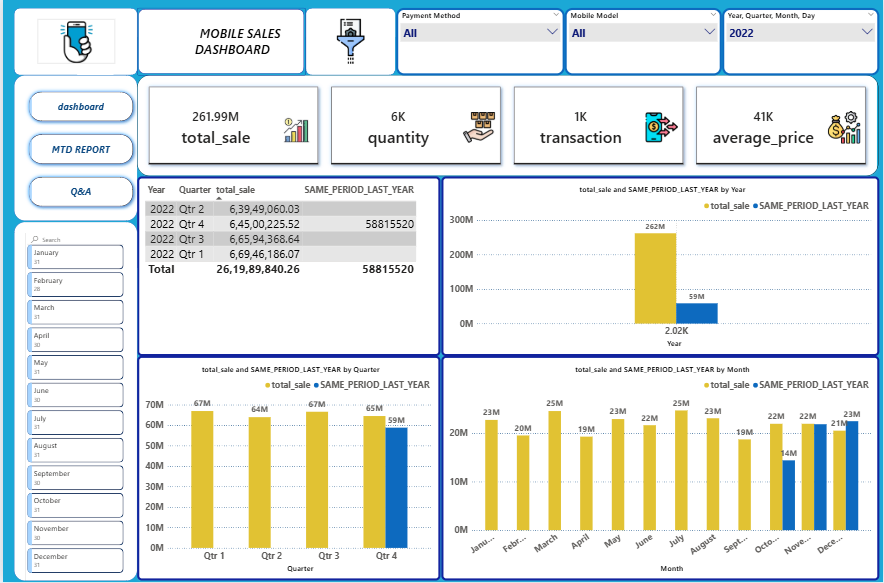

The dashboard page shown, as its layout file describes it:
{"tool":"powerbi","page":{"name":"SAMEPERIOD LAST YEAR","canvas":[1882,1250],"ordinal":2},"visuals":[{"type":"shape","box":[24,24,264,144],"z":0},{"type":"image","box":[72,48,168,96],"z":1000},{"type":"shape","box":[24,168,264,312],"z":2000},{"type":"cardVisual","fields":{"Data":["mobile_sales.total_sale","mobile_sales.quantity","mobile_sales.transaction","mobile_sales.average_price"]},"box":[288,168,1584,216],"z":3000},{"type":"slicer","fields":{"Values":["mobile_sales.Mobile Model"]},"box":[1200,24,336,144],"z":4000},{"type":"slicer","fields":{"Values":["calendar.date.Variation.Date Hierarchy.Year","calendar.date.Variation.Date Hierarchy.Quarter","calendar.date.Variation.Date Hierarchy.Month","calendar.date.Variation.Date Hierarchy.Day"]},"box":[1536,24,336,144],"z":5000},{"type":"slicer","fields":{"Values":["mobile_sales.Payment Method"]},"box":[840,24,360,144],"z":6000},{"type":"shape","box":[648,24,192,144],"z":7000},{"type":"image","box":[648,48,192,96],"z":8000},{"type":"shape","box":[288,24,360,144],"z":9000},{"type":"textbox","box":[384,48,240,96],"z":10000},{"type":"tableEx","fields":{"Values":["calendar.date.Variation.Date Hierarchy.Year","calendar.date.Variation.Date Hierarchy.Quarter","mobile_sales.total_sale","mobile_sales.SAME_PERIOD_LAST_YEAR"]},"box":[288,384,648,384],"z":11000},{"type":"shape","box":[24,480,264,768],"z":12000},{"type":"advancedSlicerVisual","fields":{"Values":["calendar.date.Variation.Date Hierarchy.Month"],"Label":["CountNonNull(calendar.date.Variation.Date Hierarchy.Day)"]},"box":[48,504,216,744],"z":13000},{"type":"clusteredColumnChart","fields":{"Category":["calendar.date.Variation.Date Hierarchy.Year"],"Y":["mobile_sales.total_sale","mobile_sales.SAME_PERIOD_LAST_YEAR"]},"box":[936,384,936,384],"z":14000},{"type":"clusteredColumnChart","fields":{"Y":["mobile_sales.total_sale","mobile_sales.SAME_PERIOD_LAST_YEAR"],"Category":["calendar.date.Variation.Date Hierarchy.Year","calendar.date.Variation.Date Hierarchy.Quarter","calendar.date.Variation.Date Hierarchy.Month","calendar.date.Variation.Date Hierarchy.Day"]},"box":[288,768,648,480],"z":15000},{"type":"clusteredColumnChart","fields":{"Y":["mobile_sales.total_sale","mobile_sales.SAME_PERIOD_LAST_YEAR"],"Category":["calendar.date.Variation.Date Hierarchy.Year","calendar.date.Variation.Date Hierarchy.Quarter","calendar.date.Variation.Date Hierarchy.Month","calendar.date.Variation.Date Hierarchy.Day"]},"box":[936,768,936,480],"z":16000},{"type":"pageNavigator","box":[48,192,240,264],"z":17000}]}

Visuals, with their boxes in screenshot pixels (x1, y1, x2, y2), scaled from the page's 1882x1250 canvas onto the 884x583 screenshot:
shape: l=11, t=11, r=135, b=78
image: l=34, t=22, r=113, b=67
shape: l=11, t=78, r=135, b=224
cardVisual - mobile_sales.total_sale x mobile_sales.quantity: l=135, t=78, r=879, b=179
slicer - mobile_sales.Mobile Model: l=564, t=11, r=721, b=78
slicer - calendar.date.Variation.Date Hierarchy.Year x calendar.date.Variation.Date Hierarchy.Quarter: l=721, t=11, r=879, b=78
slicer - mobile_sales.Payment Method: l=395, t=11, r=564, b=78
shape: l=304, t=11, r=395, b=78
image: l=304, t=22, r=395, b=67
shape: l=135, t=11, r=304, b=78
textbox: l=180, t=22, r=293, b=67
tableEx - calendar.date.Variation.Date Hierarchy.Year x calendar.date.Variation.Date Hierarchy.Quarter: l=135, t=179, r=440, b=358
shape: l=11, t=224, r=135, b=582
advancedSlicerVisual - calendar.date.Variation.Date Hierarchy.Month x CountNonNull(calendar.date.Variation.Date Hierarchy.Day): l=23, t=235, r=124, b=582
clusteredColumnChart - calendar.date.Variation.Date Hierarchy.Year x mobile_sales.total_sale: l=440, t=179, r=879, b=358
clusteredColumnChart - mobile_sales.total_sale x mobile_sales.SAME_PERIOD_LAST_YEAR: l=135, t=358, r=440, b=582
clusteredColumnChart - mobile_sales.total_sale x mobile_sales.SAME_PERIOD_LAST_YEAR: l=440, t=358, r=879, b=582
pageNavigator: l=23, t=90, r=135, b=213
